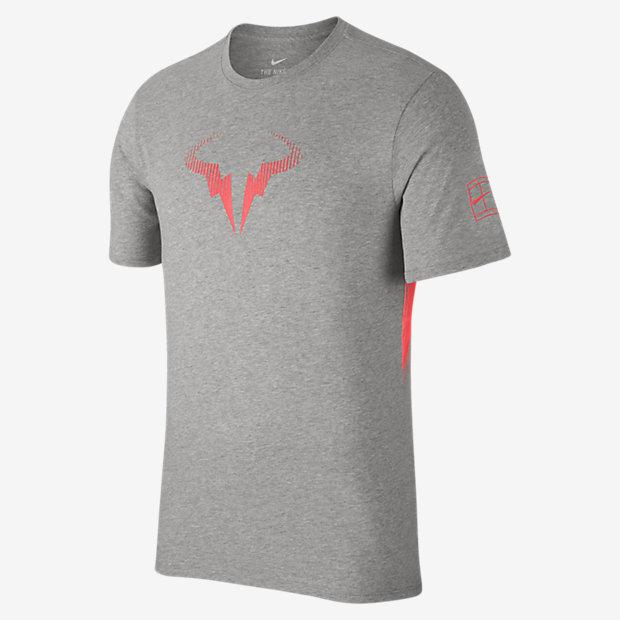teeshirt: (86, 12, 479, 620)
